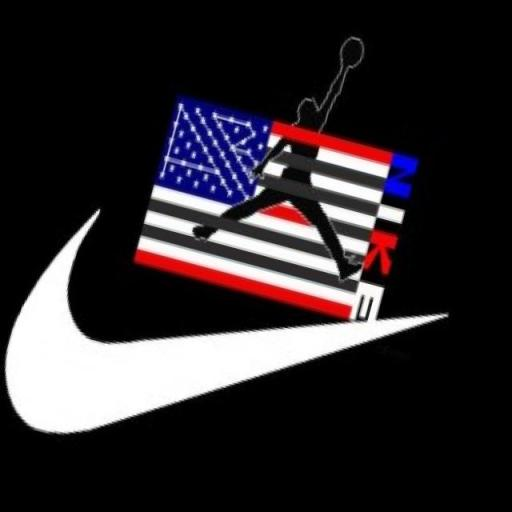Nike: (0, 183, 466, 512)
